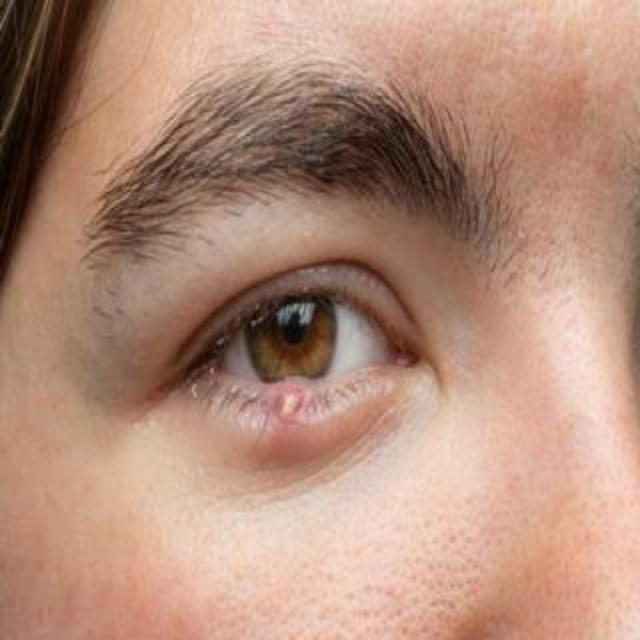Stye: (225, 350, 355, 473)
